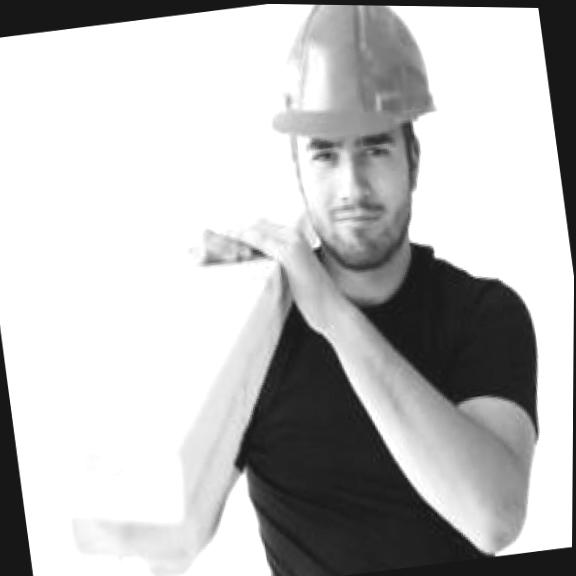no_safety_vest: (195, 211, 570, 576)
